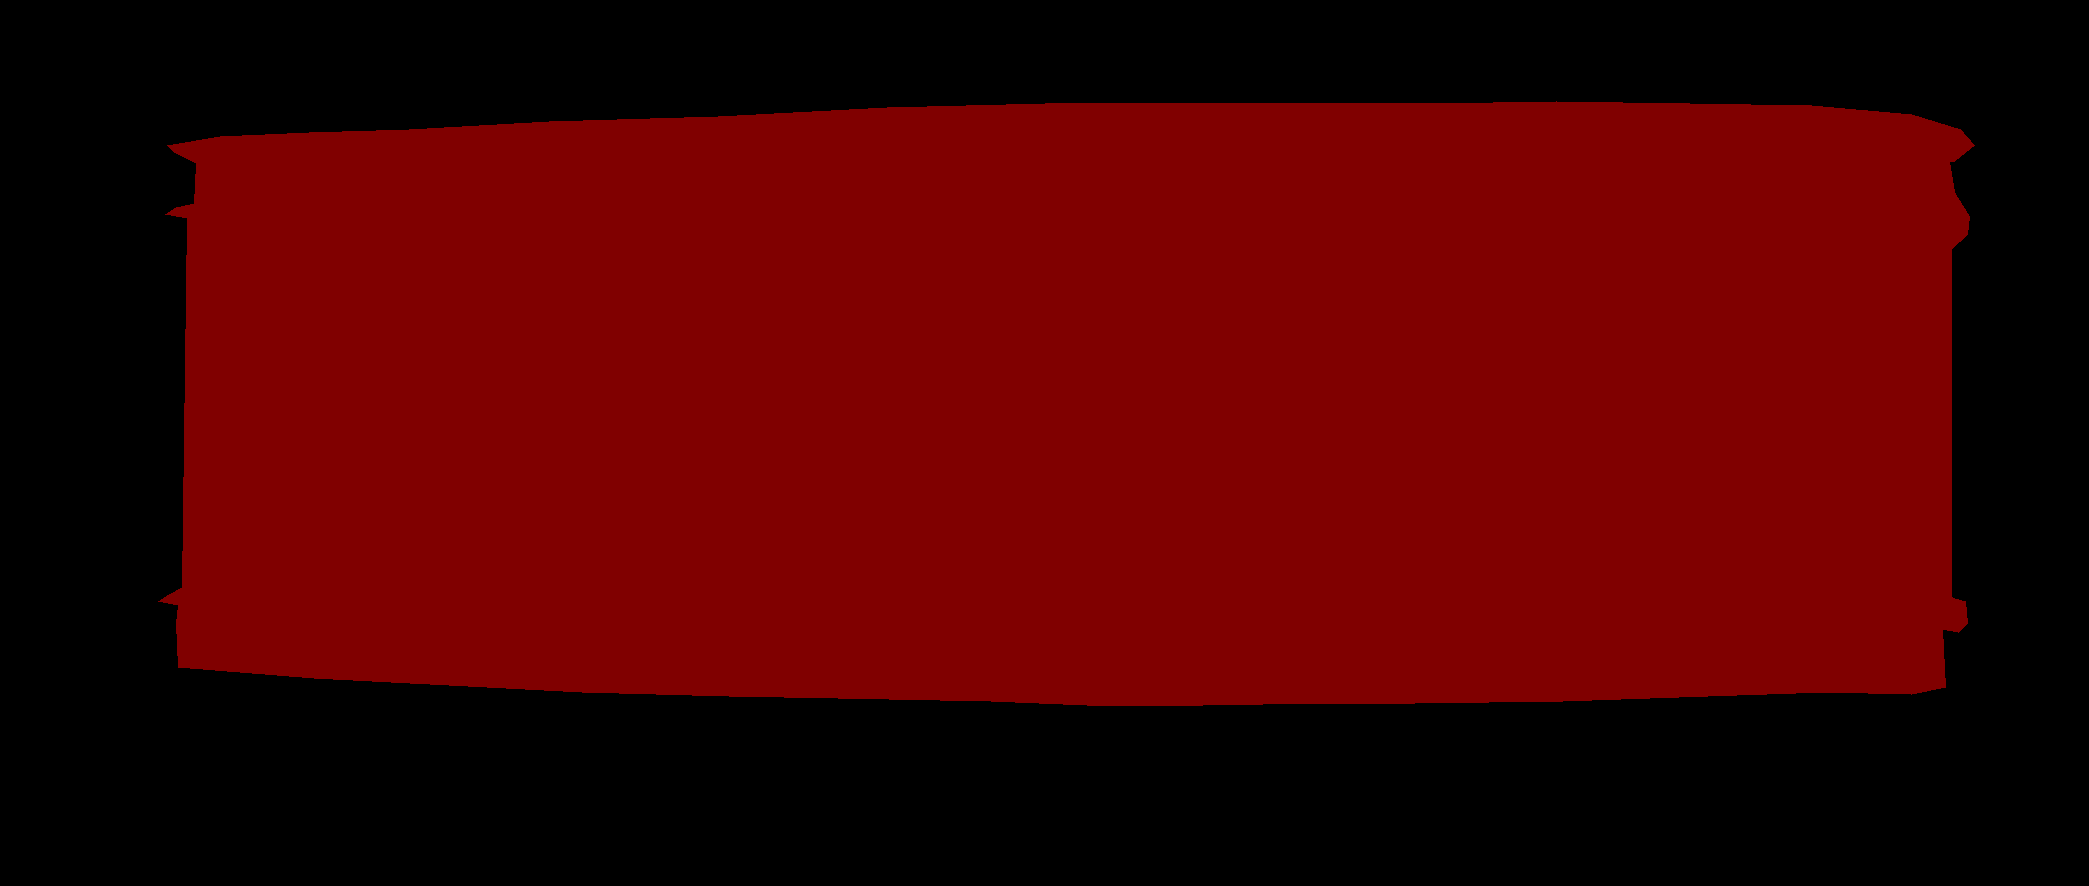sign: (159, 101, 1974, 705)
